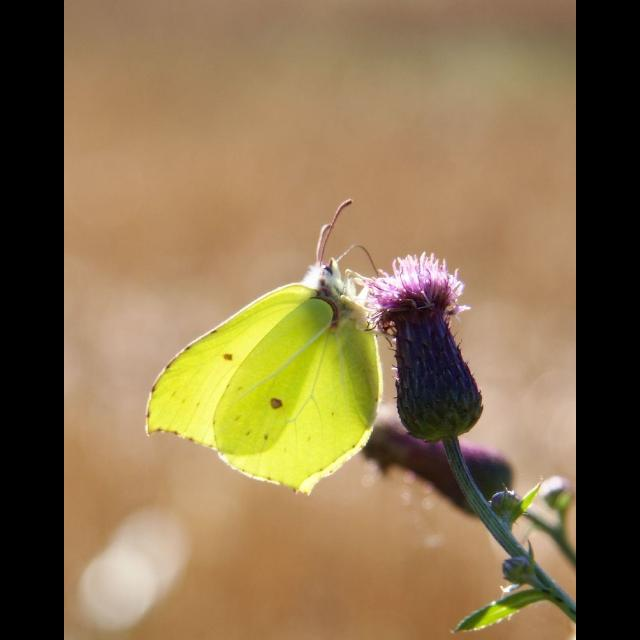Flower: (372, 254, 472, 448), (354, 410, 508, 514), (486, 482, 522, 522), (542, 472, 574, 512), (499, 556, 535, 586)
